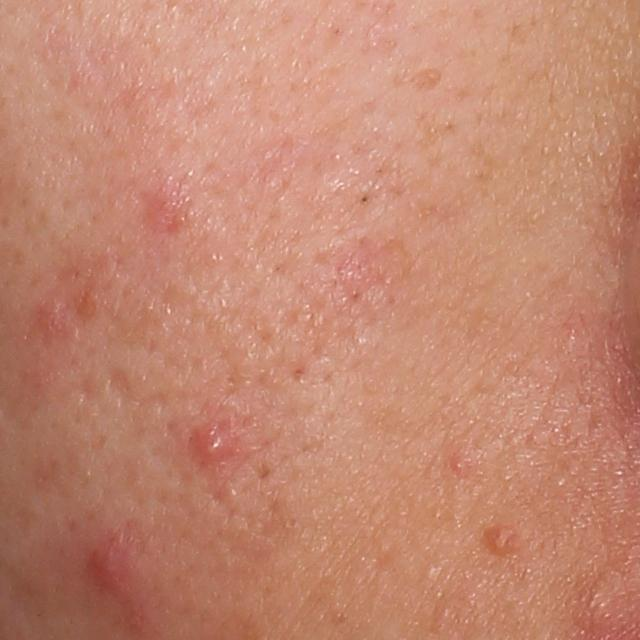atrophic_scar: (108, 368, 171, 411), (405, 66, 446, 98)
papule: (84, 528, 149, 597), (139, 181, 195, 236), (187, 418, 241, 467), (35, 294, 79, 346), (481, 522, 518, 557), (448, 450, 472, 475)
